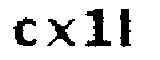1: (83, 7, 112, 51)
c: (12, 17, 39, 48)
l: (118, 6, 135, 53)
x: (46, 16, 77, 48)
